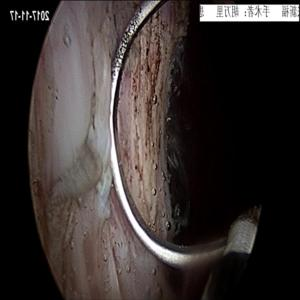film: (113, 28, 175, 249)
